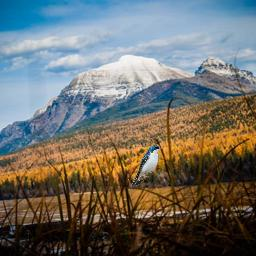Swallow: (131, 145, 162, 186)
